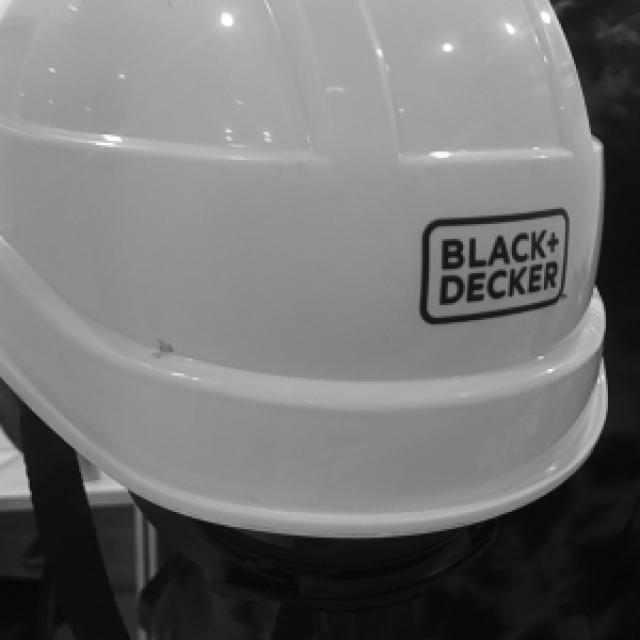safety_helmet: (0, 0, 610, 540)
